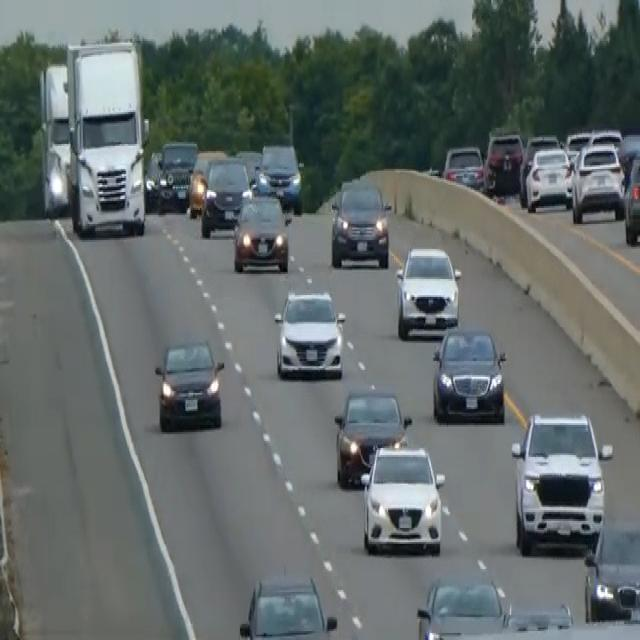car: (510, 409, 612, 555), (359, 441, 445, 555), (333, 386, 411, 487), (431, 324, 506, 423), (237, 567, 338, 638), (273, 286, 346, 381), (153, 336, 225, 432), (394, 243, 461, 339), (415, 574, 509, 638), (583, 517, 639, 624), (330, 176, 391, 268), (232, 187, 290, 272), (570, 140, 625, 222), (200, 154, 250, 236), (525, 144, 573, 212), (258, 140, 303, 212), (157, 137, 197, 211), (518, 131, 559, 201), (186, 147, 226, 217), (484, 130, 523, 194), (442, 142, 484, 190), (622, 151, 639, 245), (143, 148, 162, 210), (618, 130, 639, 183), (564, 130, 591, 169), (588, 126, 623, 155), (235, 148, 261, 186)
lorry: (64, 38, 150, 238)
